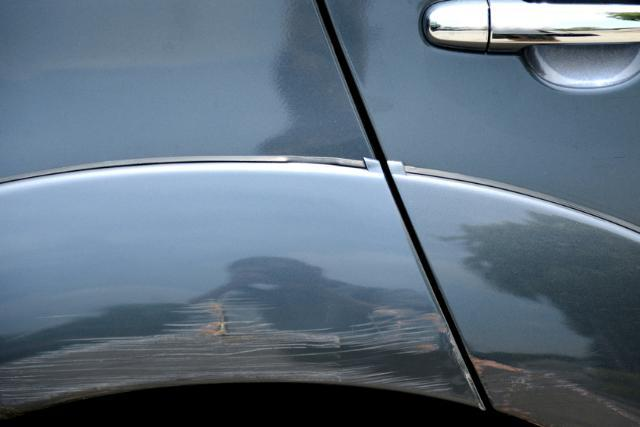Door: (474, 332, 640, 427)
Fender: (1, 268, 455, 421)
